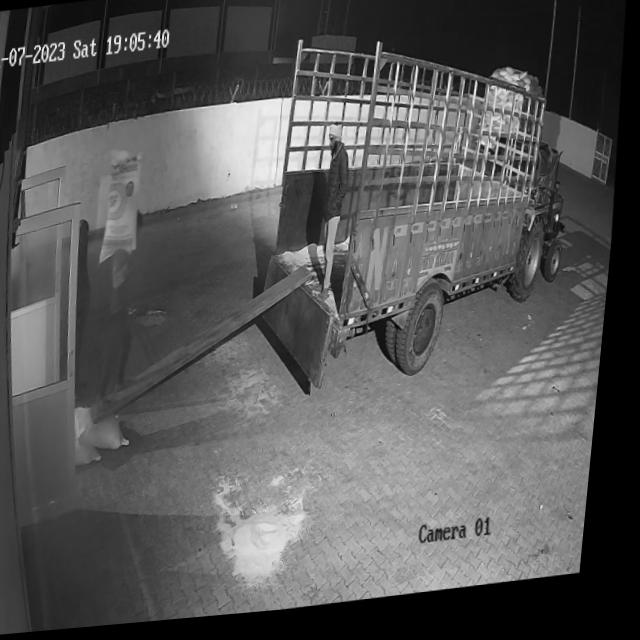sack: (99, 148, 149, 266), (80, 402, 142, 456)
